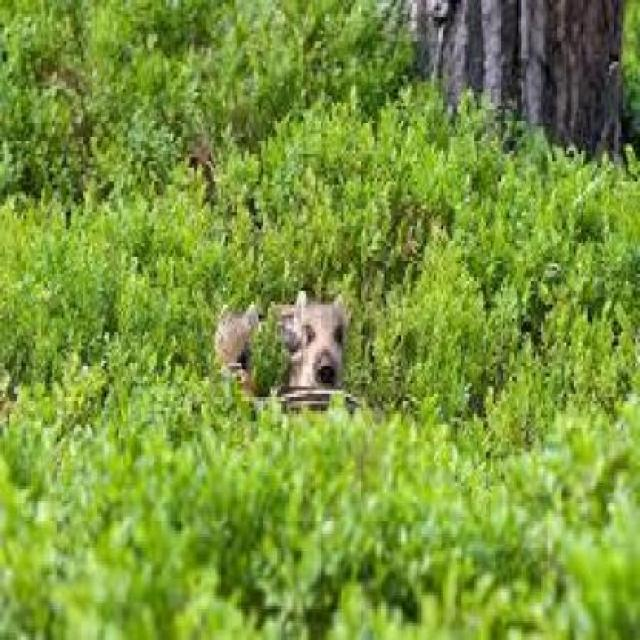wildboar: (280, 282, 352, 433), (209, 296, 274, 427)
